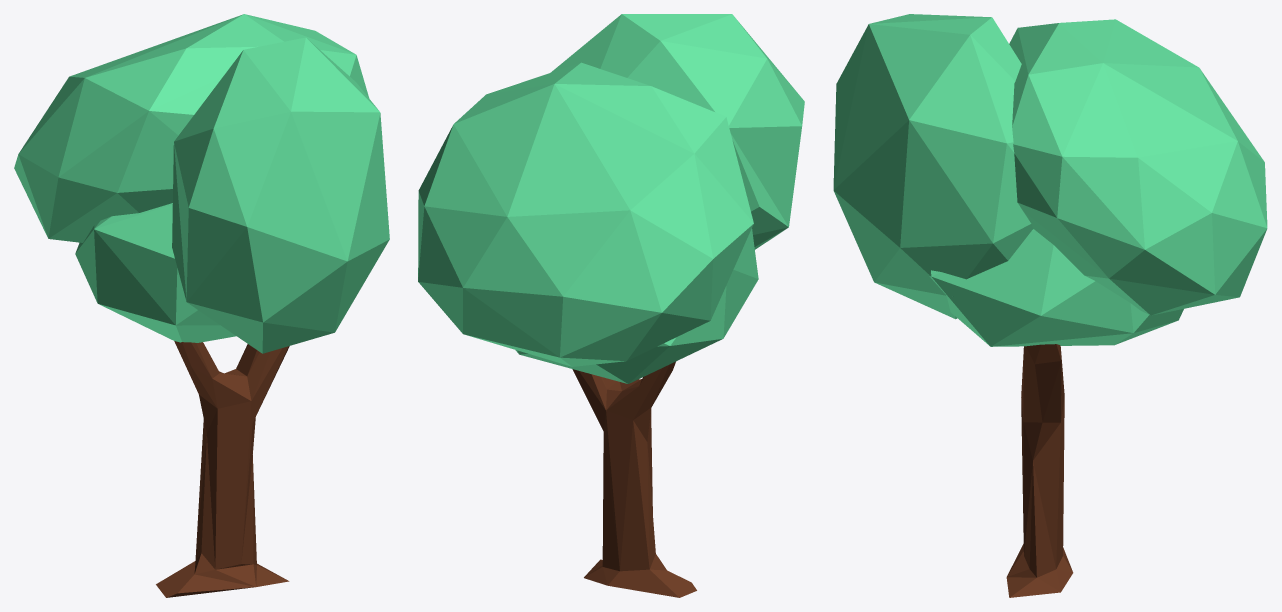
File: Tree_01.fbx
3 views of the same model, side by side, from view 1: azimuth 30°, elevation 25°; view 2: azimuth 150°, elevation 25°; view 3: azimuth 270°, elevation 25° (orthographic). The views are drawn at different scales.
Visible parts, largest first — view 1: Cube.001, Cube.002; view 2: Cube.001, Cube.002; view 3: Cube.001, Cube.002.
Boxes of the visible parts, left/top/right/bottom form: Cube.001: left=14, top=14, right=389, bottom=353; Cube.002: left=156, top=341, right=289, bottom=597; Cube.001: left=418, top=14, right=804, bottom=383; Cube.002: left=572, top=361, right=696, bottom=597; Cube.001: left=833, top=14, right=1267, bottom=346; Cube.002: left=1006, top=344, right=1073, bottom=597.
Size of the model in its own units: 165 by 277 by 194.
